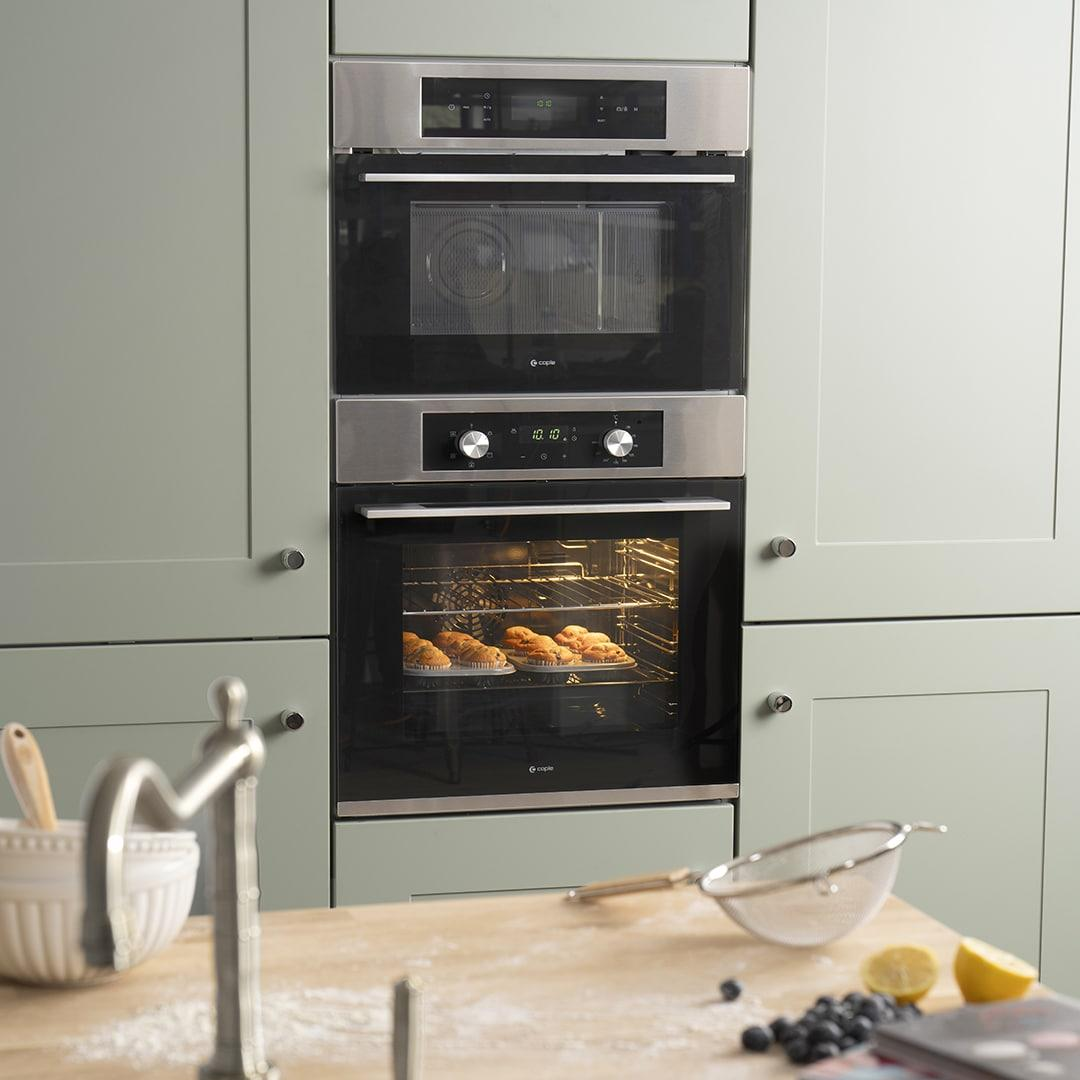controlled_fire: (370, 488, 695, 728)
